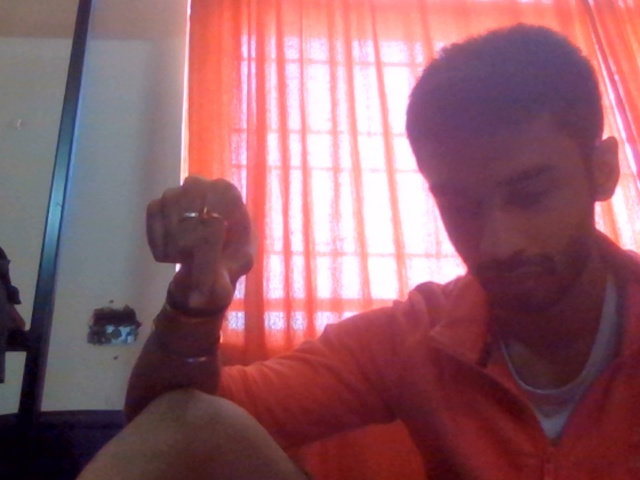Q: (114, 150, 315, 337)
